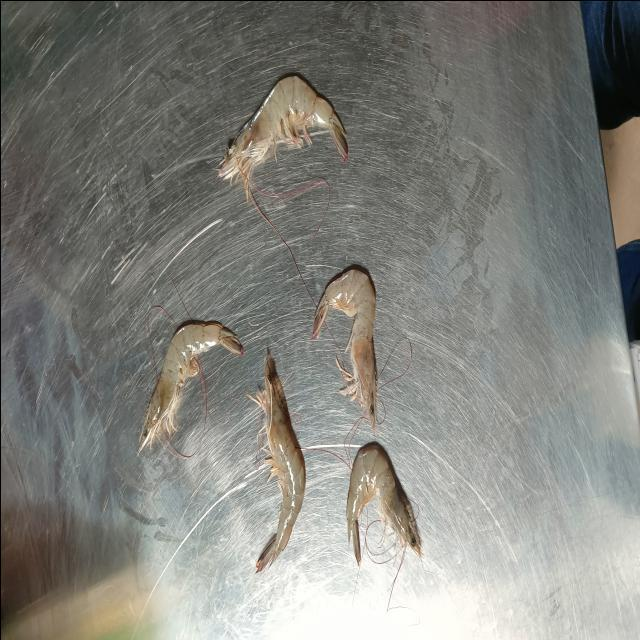shrimp: (218, 76, 348, 200), (139, 321, 242, 450), (248, 350, 305, 571), (311, 268, 376, 430), (345, 443, 420, 563)
